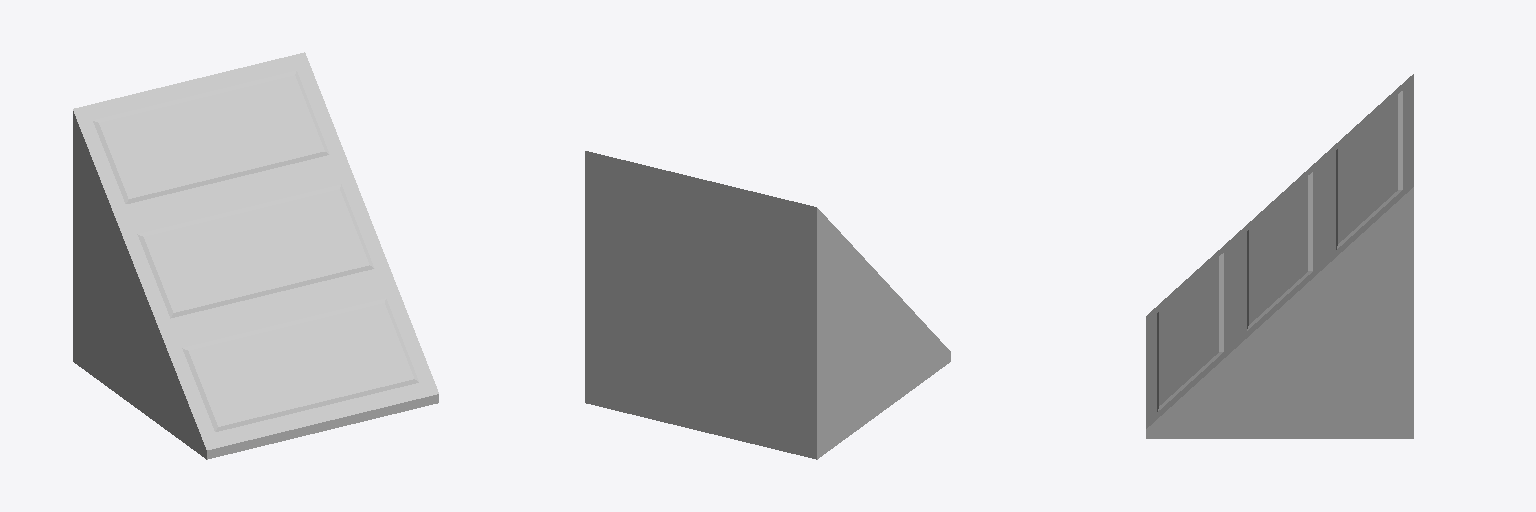
Rendered from Ramp_Blue.obj.
The picture shows the model from 3 angles: view 1: azimuth 30°, elevation 25°; view 2: azimuth 150°, elevation 25°; view 3: azimuth 270°, elevation 25°; orthographic projection.
Visible parts, largest first — view 1: Ramp_Blue; view 2: Ramp_Blue; view 3: Ramp_Blue.
Boxes of the visible parts, <box> form: Ramp_Blue: <box>73,52,438,459</box>; Ramp_Blue: <box>585,151,950,459</box>; Ramp_Blue: <box>1146,74,1413,438</box>.
Size of the model in its own units: 4 by 4.15 by 4.